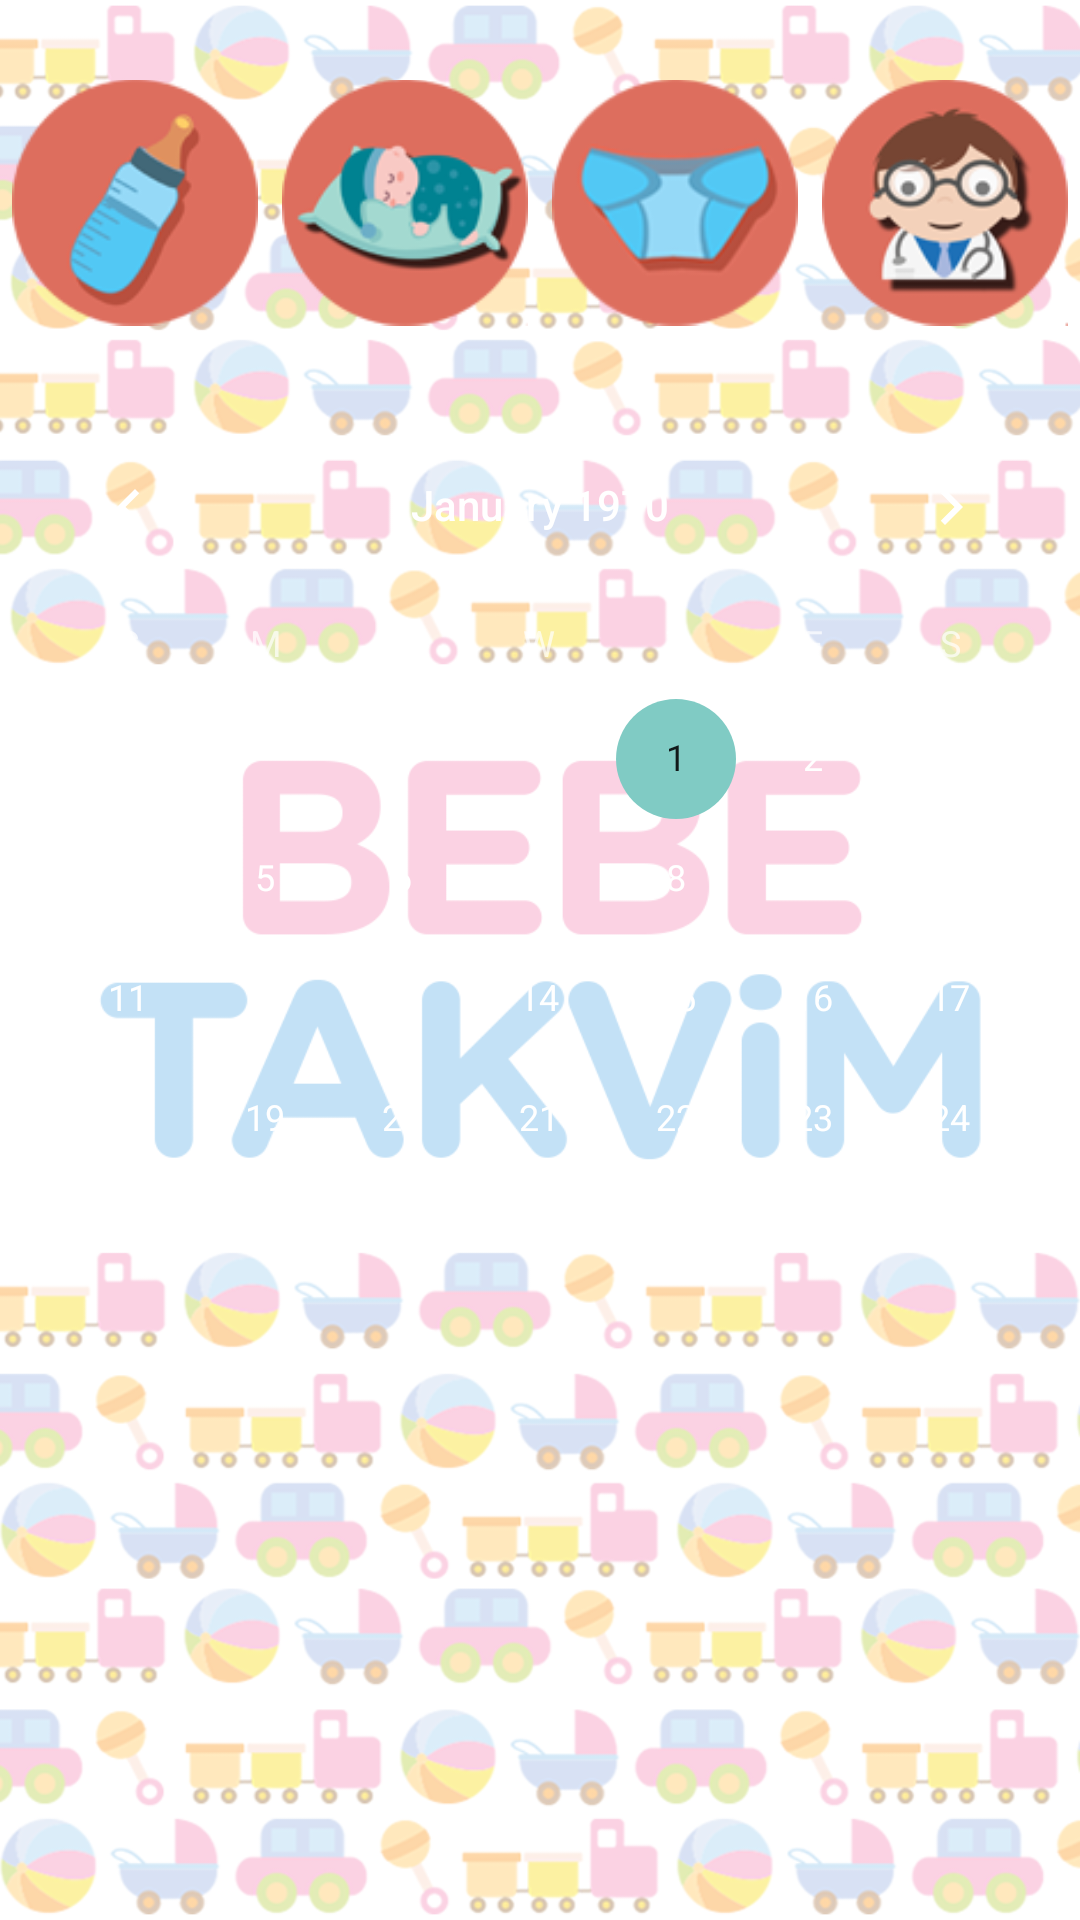

Icon click points for this 1080 × 1920 phone screenshot, format point (x, y):
bez: point (675, 202)
biberon: point (135, 202)
doc: point (945, 202)
sleep: point (405, 202)
